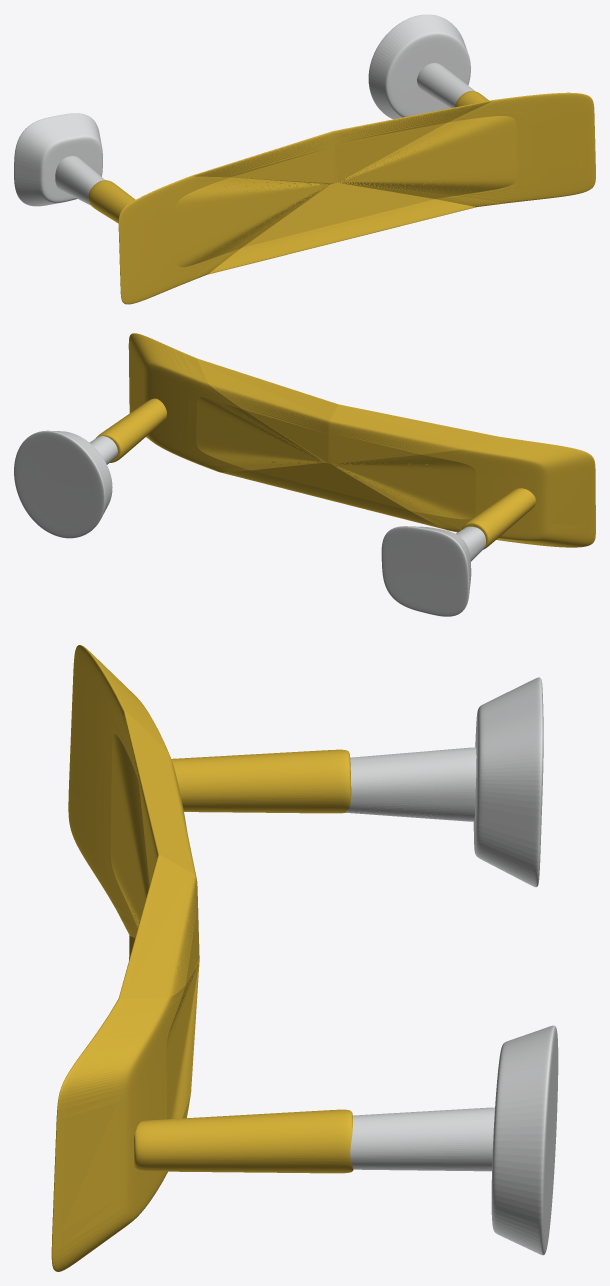
The model's file is 18_elegant_legged_bench_sq.glb.
3 renders of one model, top to bottom at view 1: azimuth 30°, elevation 25°; view 2: azimuth 150°, elevation 25°; view 3: azimuth 270°, elevation 25°, orthographic. The views are drawn at different scales.
Parts seen in each view (by area): view 1: superquadric_0, superquadric_5, superquadric_4, superquadric_1, superquadric_6, superquadric_2; view 2: superquadric_0, superquadric_5, superquadric_4, superquadric_2, superquadric_3, superquadric_6, superquadric_1; view 3: superquadric_0, superquadric_5, superquadric_3, superquadric_4, superquadric_2, superquadric_1, superquadric_6.
Boxes of the visible parts, box(x1,y1,x2,y2) form: superquadric_0: box(118, 92, 595, 304); superquadric_5: box(368, 14, 470, 119); superquadric_4: box(14, 113, 102, 206); superquadric_1: box(417, 63, 474, 108); superquadric_6: box(55, 156, 104, 205); superquadric_2: box(88, 180, 135, 223); superquadric_0: box(128, 333, 595, 547); superquadric_5: box(14, 430, 112, 538); superquadric_4: box(381, 526, 471, 616); superquadric_2: box(461, 488, 535, 549); superquadric_3: box(96, 398, 166, 462); superquadric_6: box(456, 526, 485, 561); superquadric_1: box(89, 436, 117, 464); superquadric_0: box(51, 645, 199, 1271); superquadric_5: box(491, 1025, 558, 1255); superquadric_3: box(134, 1109, 353, 1173); superquadric_4: box(473, 677, 543, 887); superquadric_2: box(171, 749, 351, 813); superquadric_1: box(350, 1107, 494, 1171); superquadric_6: box(345, 747, 476, 821).
Bounding box in the file's own units: 1 × 0.2194 × 0.4655.
